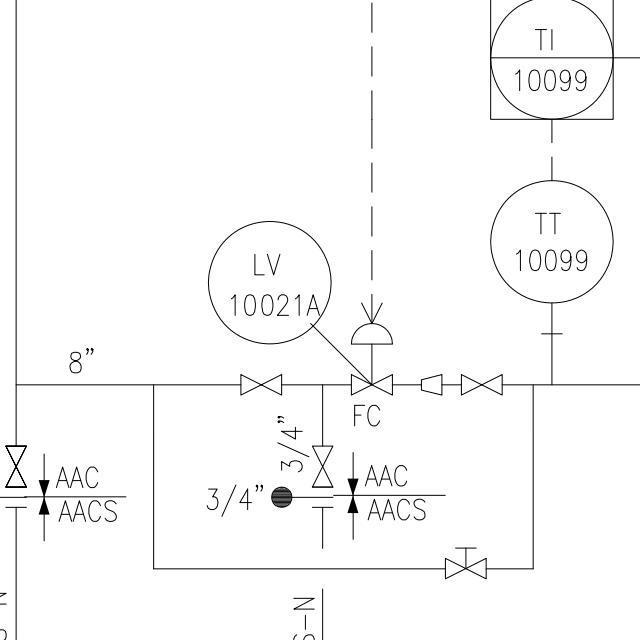FC: (343, 319, 398, 399)
GV: (2, 438, 32, 493), (236, 370, 288, 399), (456, 370, 507, 399), (309, 441, 338, 492)
HV: (441, 541, 488, 581)
SP: (417, 374, 446, 396)
